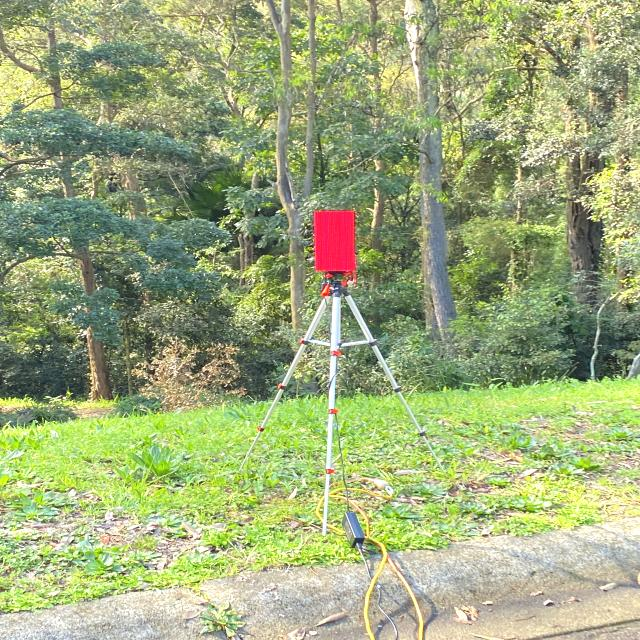matrix: (309, 208, 363, 275)
